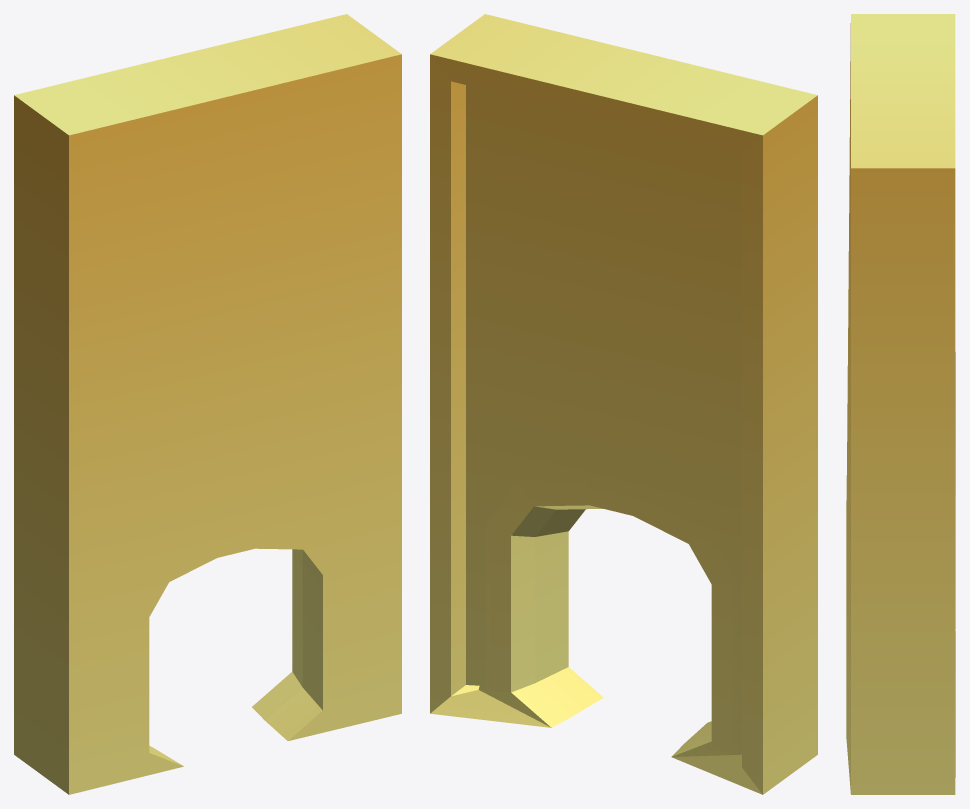
Rendered from muro_stanza_grande_porta.fbx.
3 views of the same model, side by side, from view 1: azimuth 30°, elevation 25°; view 2: azimuth 150°, elevation 25°; view 3: azimuth 270°, elevation 25° (orthographic). The views are drawn at different scales.
Visible parts, largest first — view 1: pareteGrande_mod01.002; view 2: pareteGrande_mod01.002; view 3: pareteGrande_mod01.002.
Boxes of the visible parts, x1,y1,x2,y2 form: pareteGrande_mod01.002: (14,14,401,794); pareteGrande_mod01.002: (430,14,817,794); pareteGrande_mod01.002: (846,14,955,794).
Size of the model in its own units: 4654 by 8811 by 1390.
Materials: 1 (1 with a texture image).
